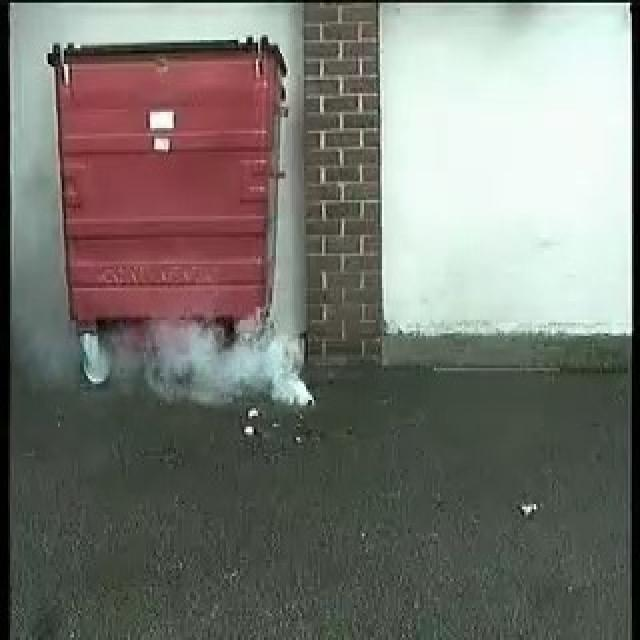smoke: (139, 326, 313, 409)
